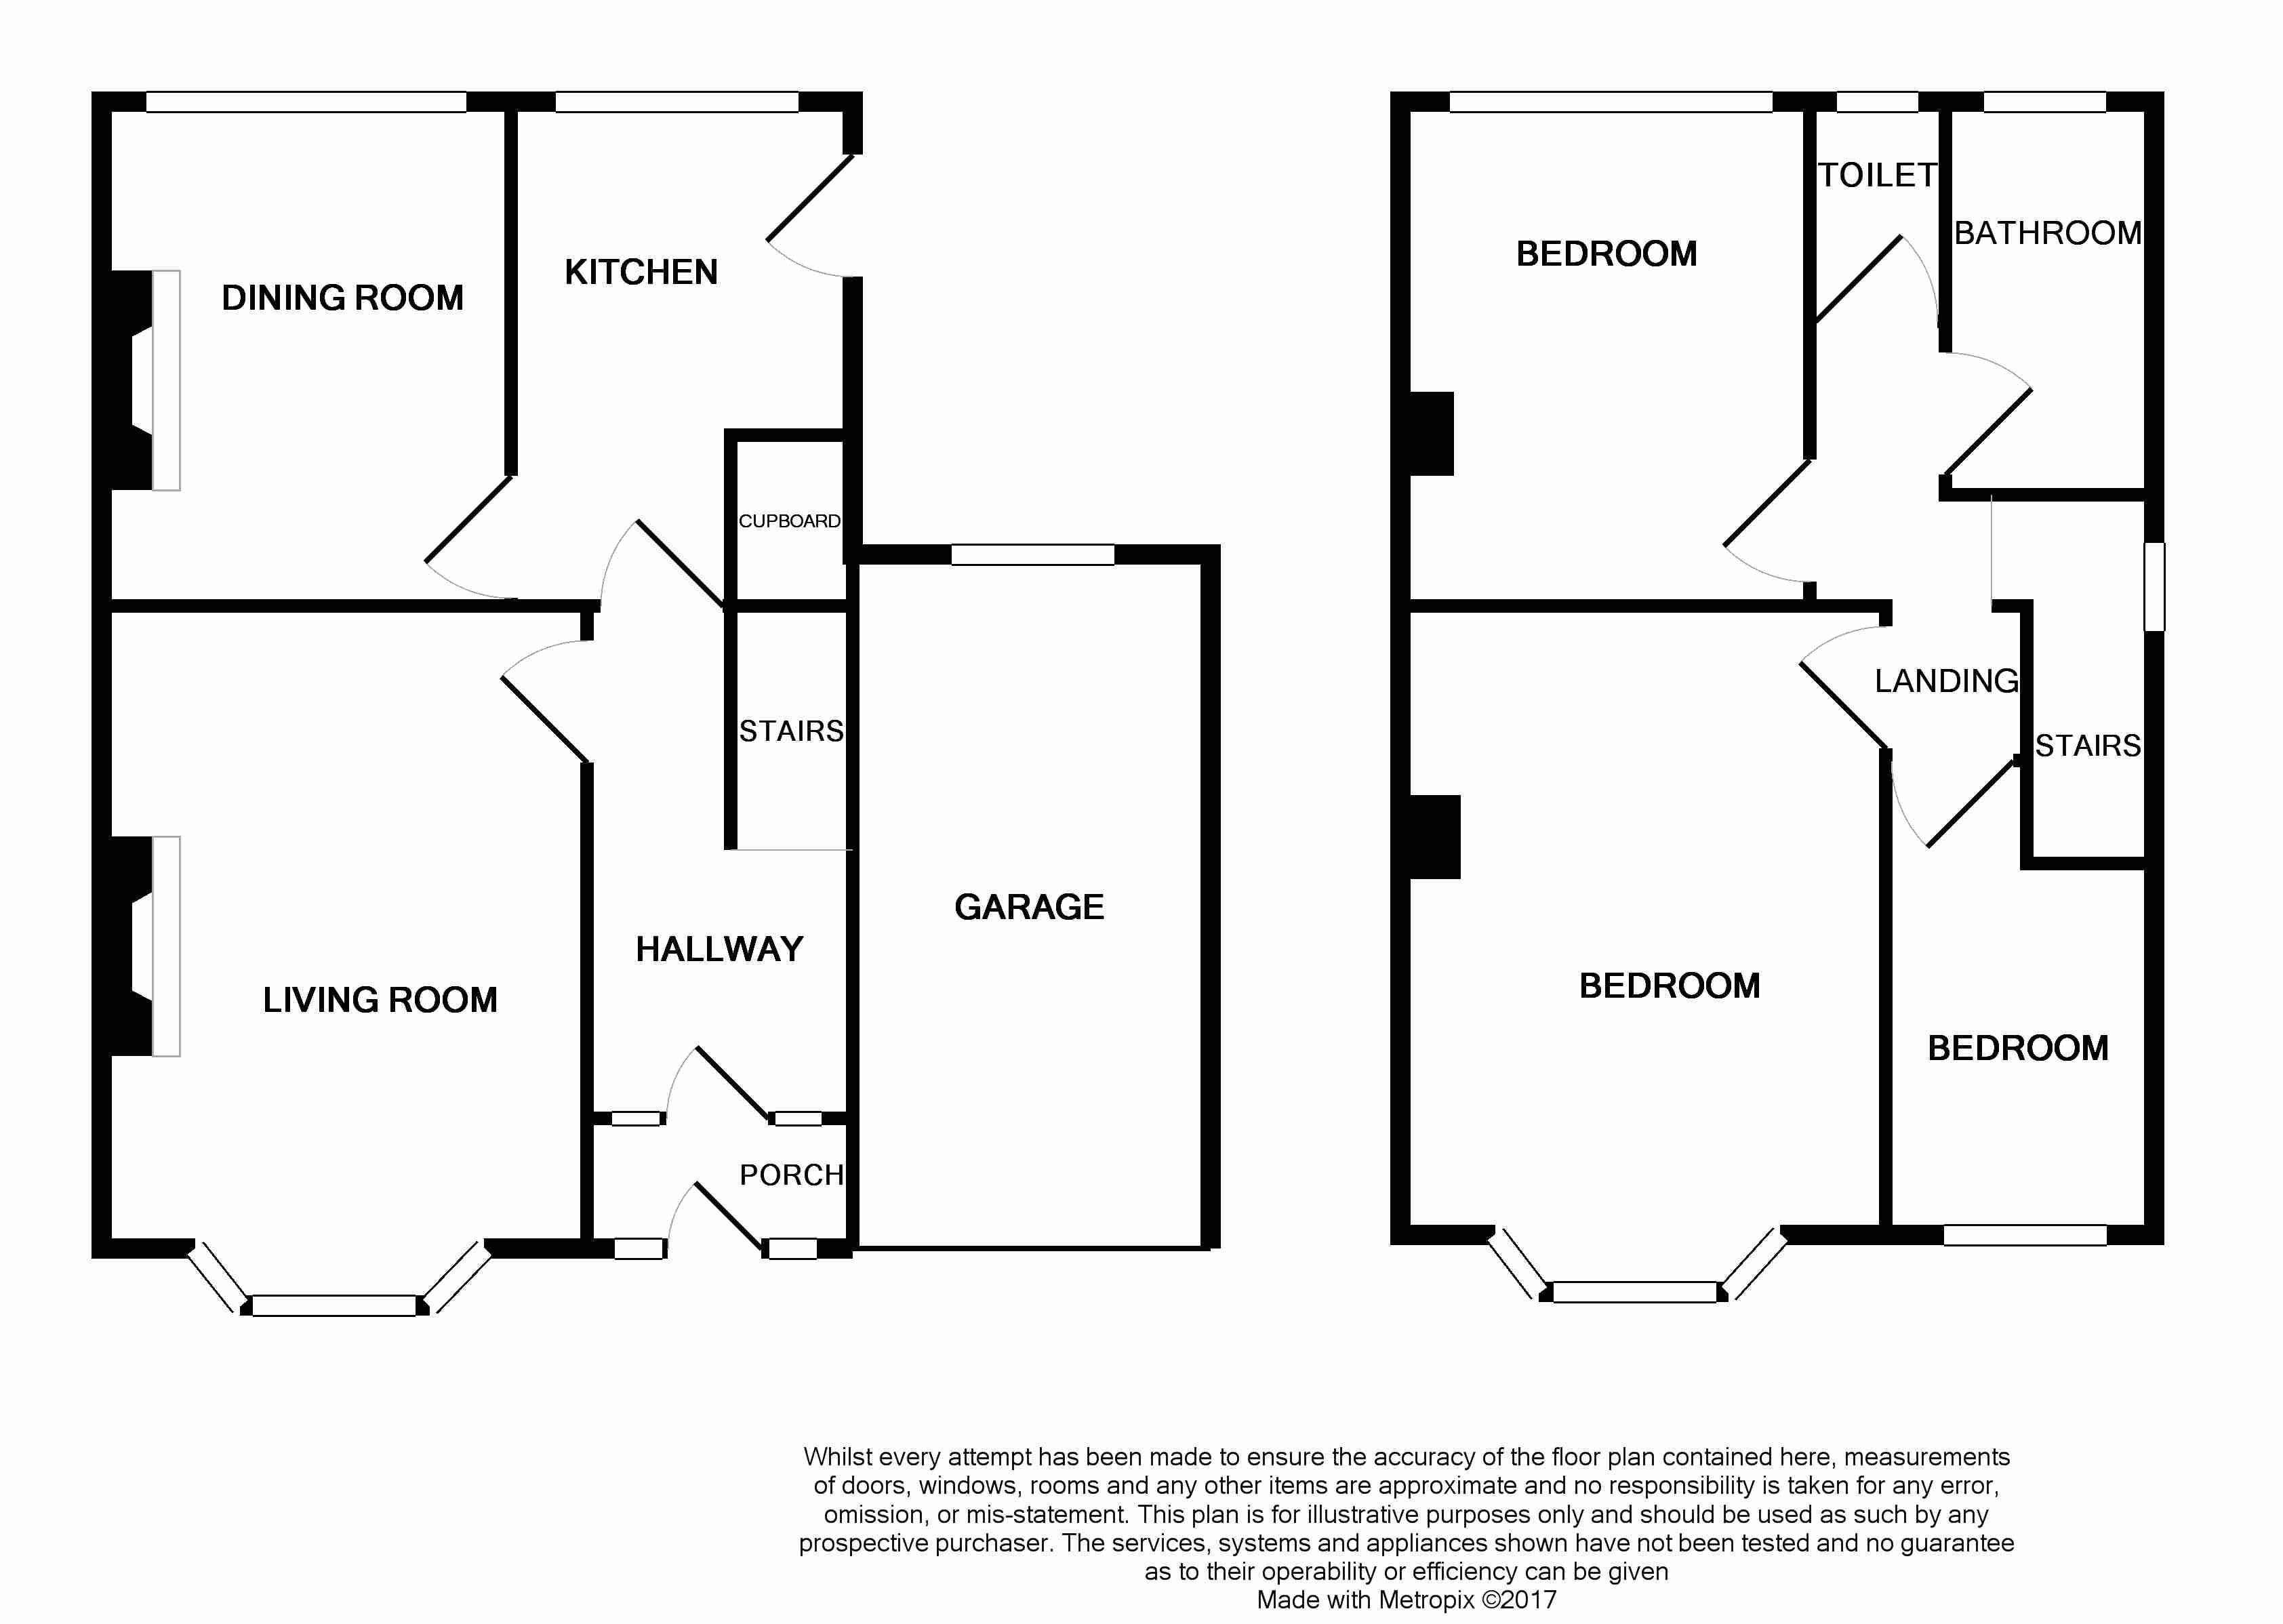wall: (98, 605, 111, 1248), (1207, 561, 1216, 1239), (1401, 794, 1464, 881), (1882, 752, 1893, 1230), (583, 759, 592, 1239), (1401, 601, 1889, 608), (104, 606, 587, 613), (851, 290, 854, 1241), (1408, 392, 1452, 466), (2155, 647, 2160, 1241), (2149, 97, 2156, 526), (731, 450, 736, 840), (510, 98, 515, 476), (1399, 98, 1401, 1230), (1946, 102, 1954, 325), (861, 555, 1213, 561), (1775, 1230, 1949, 1241), (842, 1241, 1216, 1244), (483, 1239, 652, 1246), (98, 102, 100, 613), (1399, 1230, 1499, 1239), (1946, 490, 2160, 494), (1808, 102, 1810, 455), (104, 1246, 199, 1251), (2028, 863, 2153, 866), (738, 445, 849, 448), (2097, 1229, 2169, 1234)
